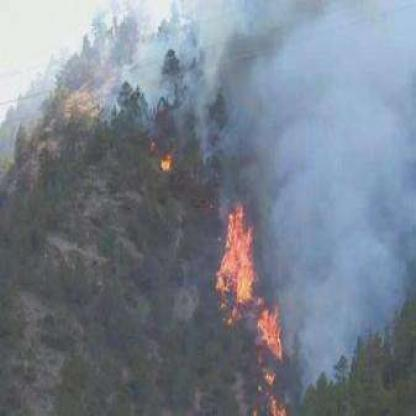fire: (219, 202, 285, 360), (262, 368, 288, 414), (154, 142, 173, 172)
